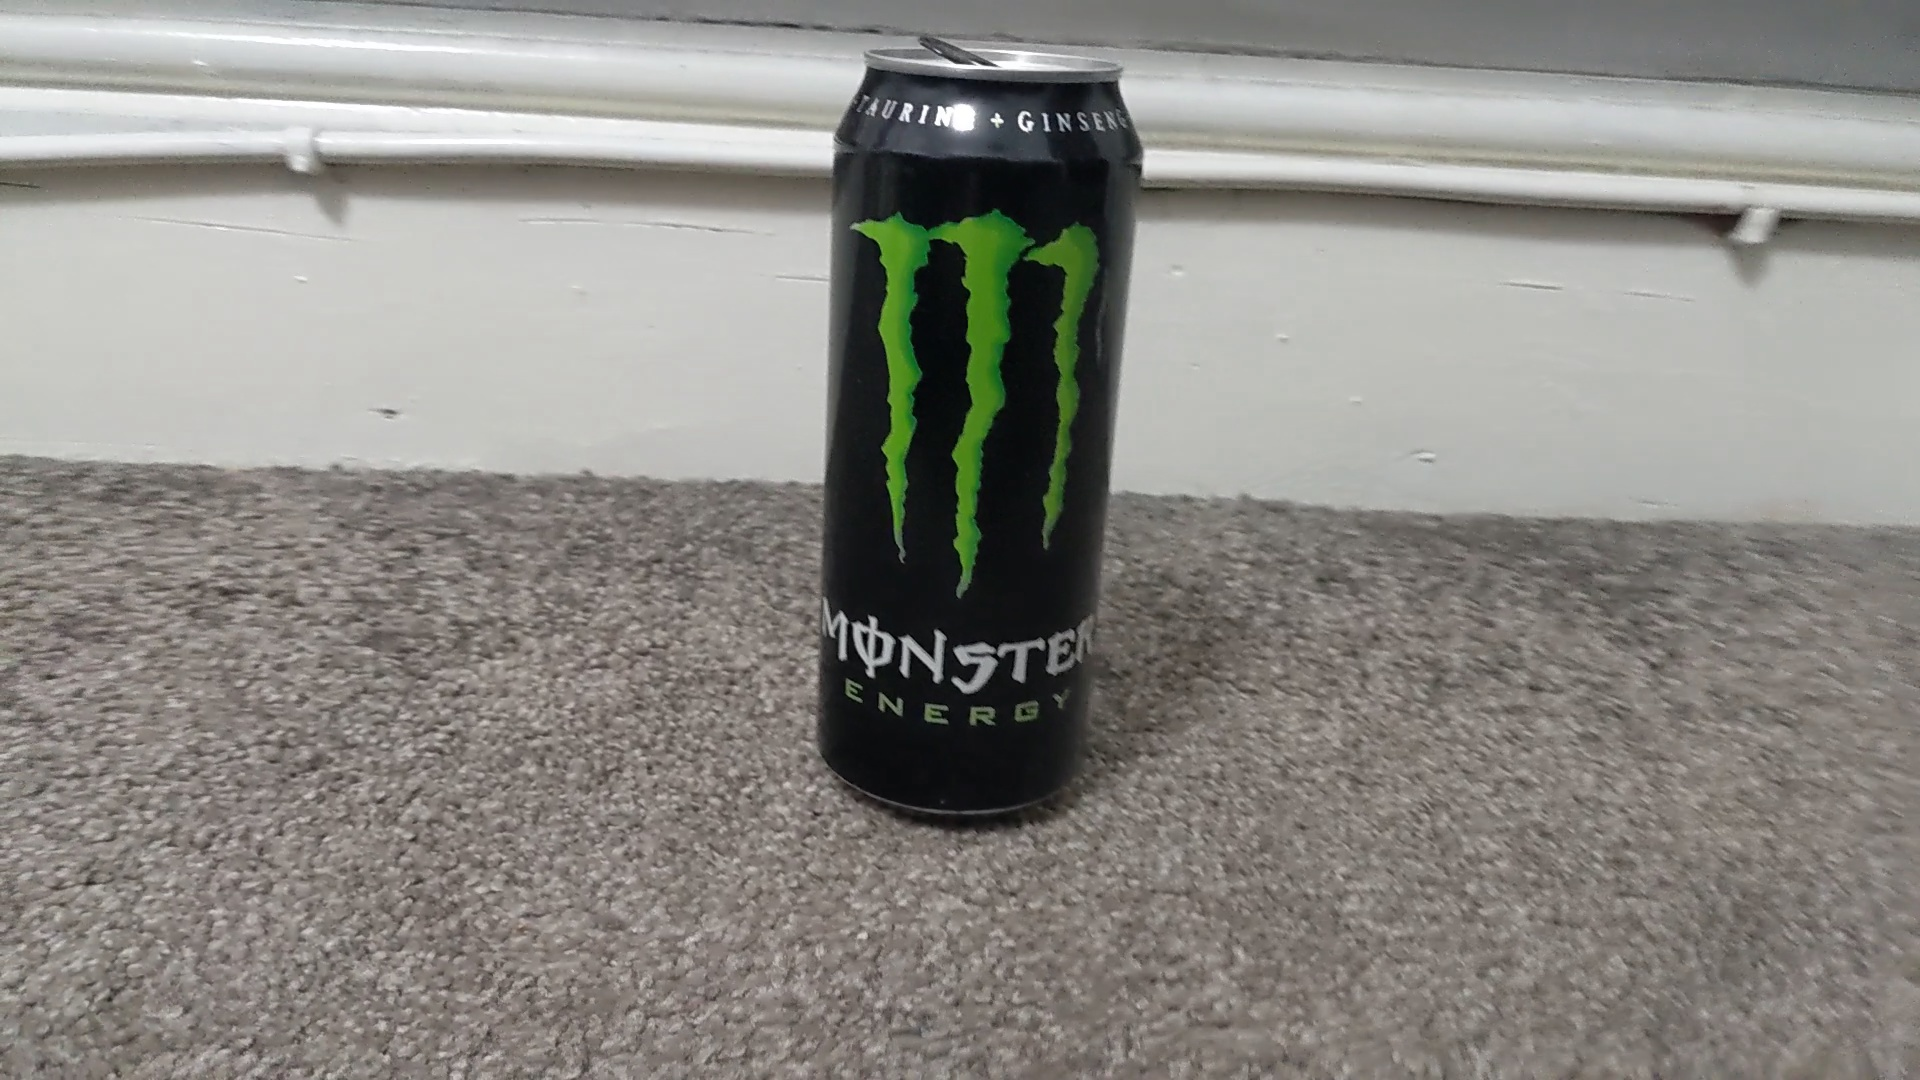monster-original: (816, 45, 1153, 820)
